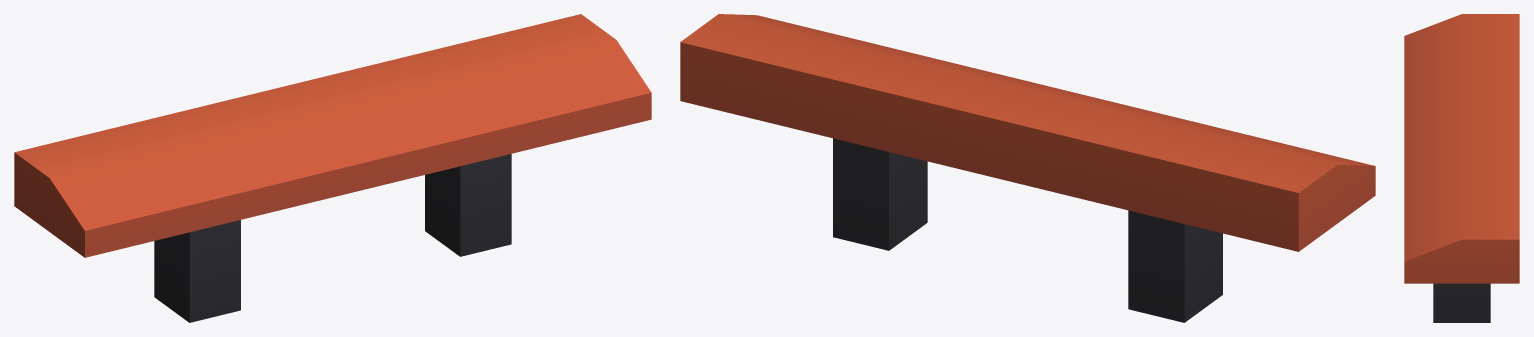
The model's file is debris-spoiler-a.glb.
3 views of the same model, side by side, from view 1: azimuth 30°, elevation 25°; view 2: azimuth 150°, elevation 25°; view 3: azimuth 270°, elevation 25° (orthographic). The views are drawn at different scales.
Parts seen in each view (by area): view 1: debris-spoiler-a; view 2: debris-spoiler-a; view 3: debris-spoiler-a.
Part boxes in pixels (bbox=[...]): debris-spoiler-a: bbox=[14, 14, 651, 322]; debris-spoiler-a: bbox=[680, 14, 1375, 322]; debris-spoiler-a: bbox=[1404, 14, 1519, 322].
Bounding box in the file's own units: 1.1 × 0.3 × 0.2374.
